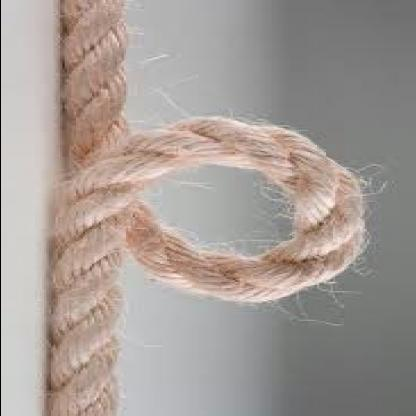Rope: (38, 6, 382, 414)
